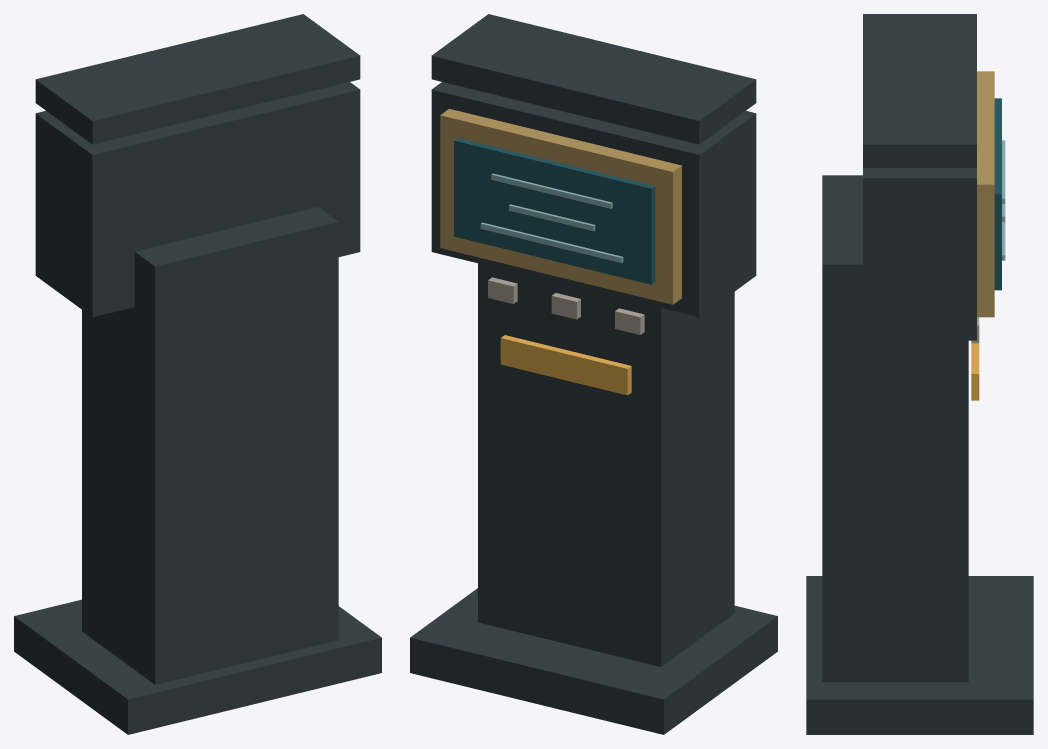
File: VIC_S04_TERMINAL_Roblox.fbx
The picture shows the model from 3 angles, left to right: view 1: azimuth 30°, elevation 25°; view 2: azimuth 150°, elevation 25°; view 3: azimuth 270°, elevation 25°; orthographic projection.
Parts seen in each view (by area): view 1: VIC_S04_TERMINAL__Charcoal; view 2: VIC_S04_TERMINAL__Charcoal, VIC_S04_TERMINAL__Teal, VIC_S04_TERMINAL__Brass, VIC_S04_TERMINAL__Amber, VIC_S04_TERMINAL__Sky, VIC_S04_TERMINAL__Stone; view 3: VIC_S04_TERMINAL__Charcoal, VIC_S04_TERMINAL__Brass, VIC_S04_TERMINAL__Teal, VIC_S04_TERMINAL__Amber, VIC_S04_TERMINAL__Sky.
Boxes of the visible parts, <box> form: VIC_S04_TERMINAL__Charcoal: <box>14,14,381,734</box>; VIC_S04_TERMINAL__Charcoal: <box>410,14,777,734</box>; VIC_S04_TERMINAL__Teal: <box>454,138,655,284</box>; VIC_S04_TERMINAL__Brass: <box>440,108,681,304</box>; VIC_S04_TERMINAL__Amber: <box>500,335,631,395</box>; VIC_S04_TERMINAL__Sky: <box>480,173,623,263</box>; VIC_S04_TERMINAL__Stone: <box>488,277,644,334</box>; VIC_S04_TERMINAL__Charcoal: <box>806,14,1033,734</box>; VIC_S04_TERMINAL__Brass: <box>977,71,994,317</box>; VIC_S04_TERMINAL__Teal: <box>994,98,1001,290</box>; VIC_S04_TERMINAL__Amber: <box>971,343,979,400</box>; VIC_S04_TERMINAL__Sky: <box>1002,140,1005,260</box>.
Size of the model in its own units: 1.9 by 4.03 by 1.4.
